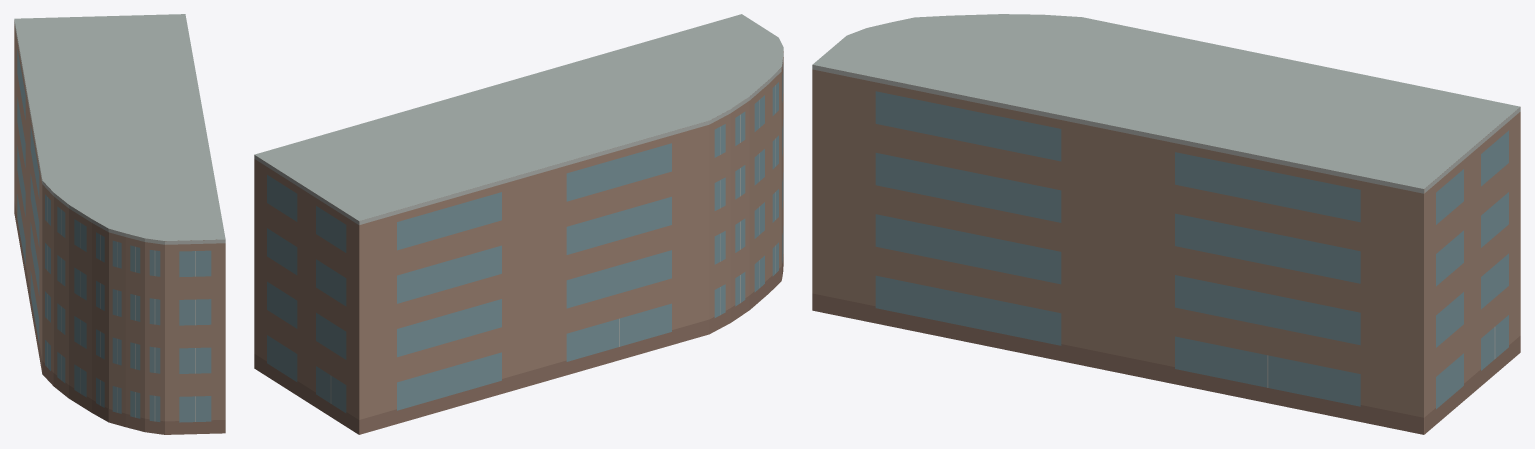
File: survey-upis-32886621.glb
The picture shows the model from 3 angles, left to right: view 1: azimuth 30°, elevation 25°; view 2: azimuth 150°, elevation 25°; view 3: azimuth 270°, elevation 25°; orthographic projection. The views are drawn at different scales.
Parts seen in each view (by area): view 1: survey-upis-32886621.tmp; view 2: survey-upis-32886621.tmp; view 3: survey-upis-32886621.tmp.
Boxes of the visible parts, x1,y1,x2,y2 form: survey-upis-32886621.tmp: (14,14,225,434); survey-upis-32886621.tmp: (254,14,783,434); survey-upis-32886621.tmp: (812,14,1520,434).
Bounding box in the file's own units: 19.56 × 12.8 × 33.43.
